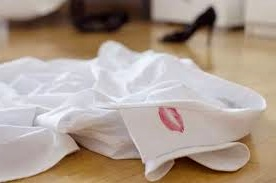lipstick: (154, 103, 187, 135)
